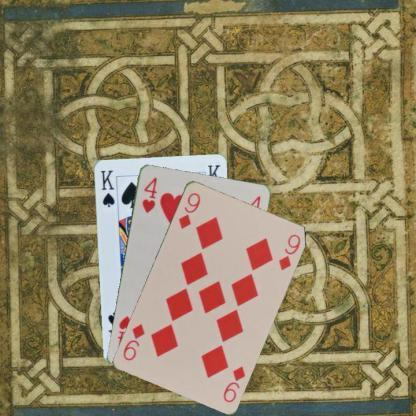4h: (139, 174, 158, 214)
9d: (220, 363, 247, 403), (176, 189, 202, 230)
Ks: (97, 167, 115, 208)
